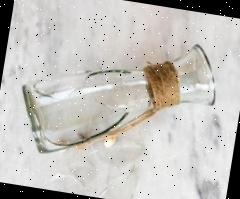glass: (10, 16, 224, 180)
